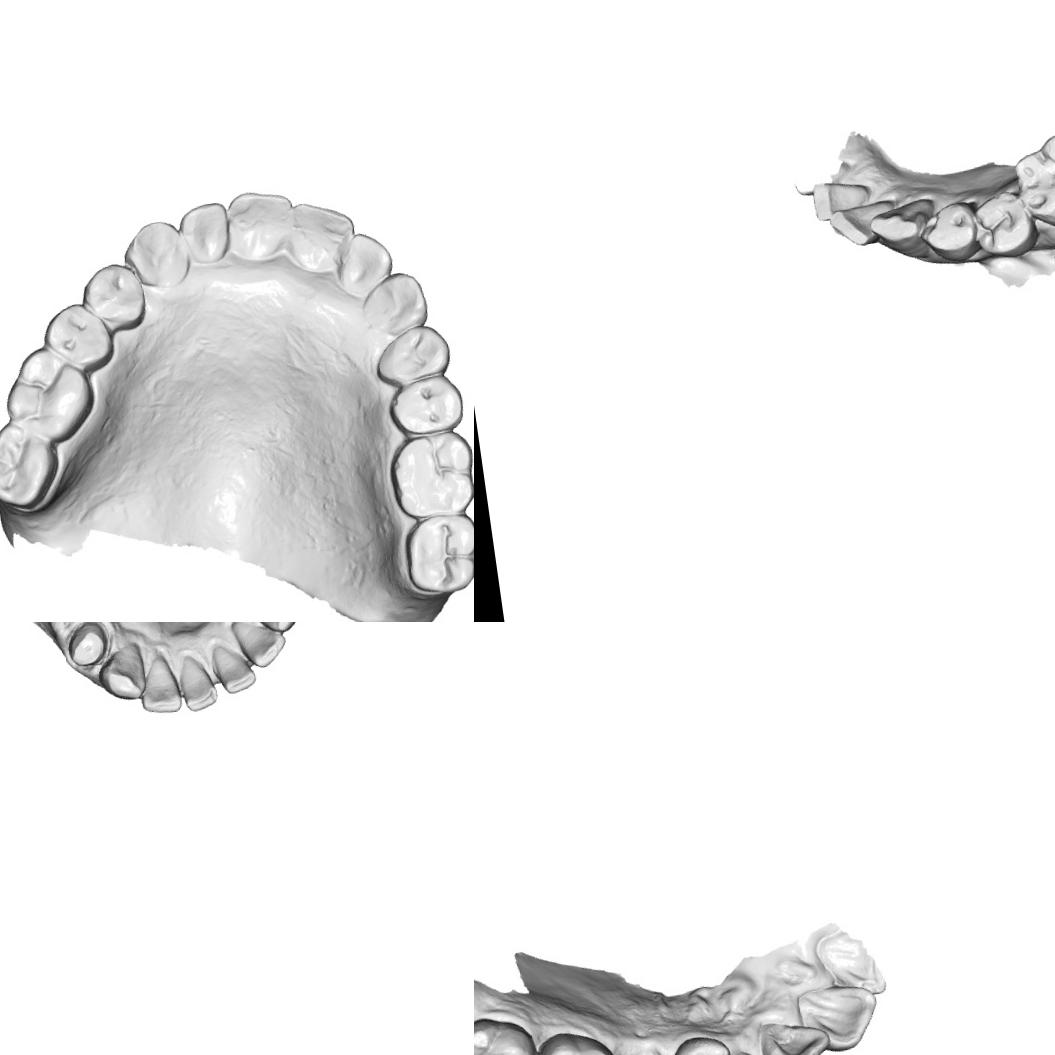canine: (120, 216, 194, 290), (357, 266, 431, 339), (866, 198, 935, 254), (94, 640, 150, 706), (239, 622, 304, 638)
crown: (60, 622, 115, 672)
incisor: (793, 978, 884, 1055), (282, 192, 357, 271), (225, 186, 297, 260), (338, 227, 397, 295), (178, 198, 232, 264), (132, 650, 184, 718), (228, 622, 290, 672), (825, 201, 888, 250), (207, 640, 259, 698), (807, 176, 869, 224), (175, 651, 221, 714), (762, 1016, 834, 1055)
molar: (0, 339, 100, 451), (386, 428, 474, 523), (395, 507, 474, 601), (0, 412, 69, 514), (1009, 127, 1055, 235), (474, 1009, 543, 1055), (529, 1023, 627, 1055)
premolar: (31, 298, 113, 375), (370, 319, 454, 392), (76, 256, 150, 337), (390, 374, 465, 439), (970, 188, 1034, 258), (916, 198, 980, 268), (658, 1030, 738, 1055)
